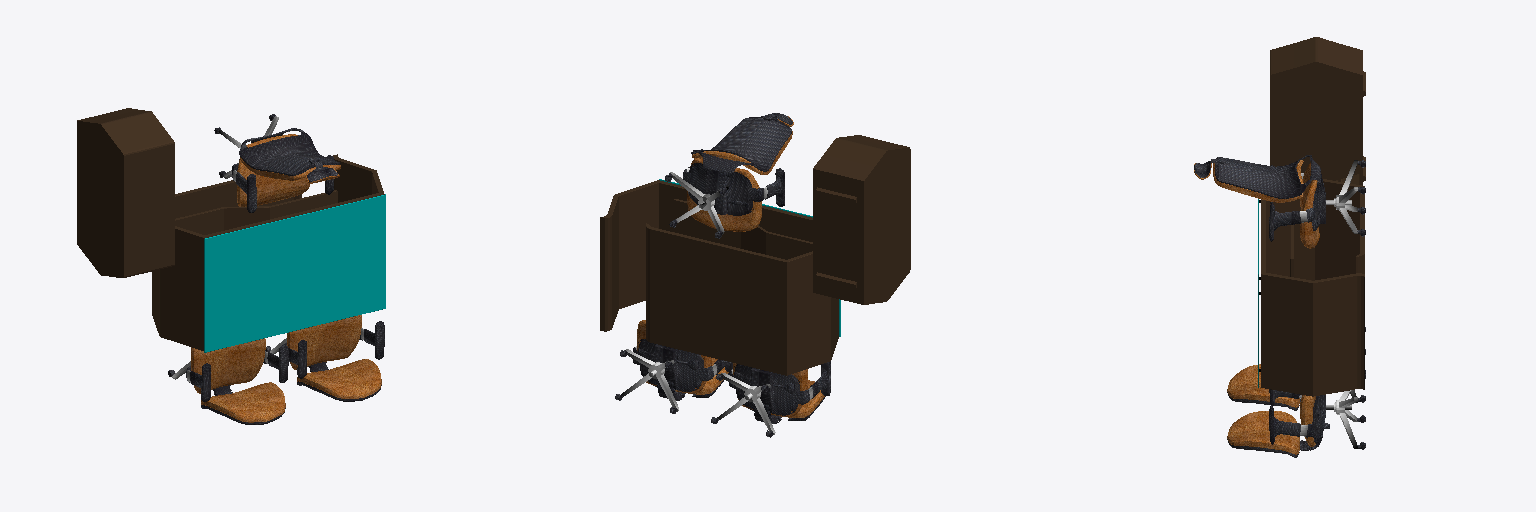
3 views of the same model, side by side, from view 1: azimuth 30°, elevation 25°; view 2: azimuth 150°, elevation 25°; view 3: azimuth 270°, elevation 25° (orthographic).
Visible parts, largest first — view 1: Plane.010_Plane.014, Cube.001_Cube.012_Cube.001_Cube.001, Cube_Cube.001_Cube_Cube.000, Cube.002_Cube.003_Cube.002_Cube.000, Cube.001_Cube.000_Cube.001_Cube.011_Cube.001_Cube.000_Cube.001_C, Cube.001_Cube.000_Cube.001_Cube.000_Cube.001_Cube.000_Cube.001_C, Cube.008_Cube.000_Cube.008_Cube.010_Cube.008_Cube.000_Cube.008_C, Cube.008_Cube.000_Cube.008_Cube.000_Cube.008_Cube.000_Cube.008_C, Cube.001_Cube.013_Cube.001_Cube.000, Cube.006_Cube.012_Cube.006_Cube.000; view 2: Cube_Cube.001_Cube_Cube.000, Cube.001_Cube.012_Cube.001_Cube.001, Cube.002_Cube.003_Cube.002_Cube.000, Cube.003_Cube.012_Cube.003_Cube.001, Cube.003_Cube.000_Cube.003_Cube.011_Cube.003_Cube.000_Cube.003_C, Cube.003_Cube.000_Cube.003_Cube.000_Cube.003_Cube.000_Cube.003_C, Cube.001_Cube.013_Cube.001_Cube.000, Cylinder.002_Cylinder.012_Cylinder.002_Cylinder.000, Cylinder.002_Cylinder.000_Cylinder.002_Cylinder.000_Cylinder.002, Cylinder.002_Cylinder.000_Cylinder.002_Cylinder.011_Cylinder.002, Cube.006_Cube.012_Cube.006_Cube.000, Cube.005_Cube.000_Cube.005_Cube.011_Cube.005_Cube.000_Cube.005_C; view 3: Cube_Cube.001_Cube_Cube.000, Cube.001_Cube.012_Cube.001_Cube.001, Cube.002_Cube.003_Cube.002_Cube.000, Cube.008_Cube.000_Cube.008_Cube.000_Cube.008_Cube.000_Cube.008_C, Cube.008_Cube.000_Cube.008_Cube.010_Cube.008_Cube.000_Cube.008_C, Cube.001_Cube.013_Cube.001_Cube.000, Cylinder.002_Cylinder.012_Cylinder.002_Cylinder.000, Cube.005_Cube.012_Cube.005_Cube.000, Cube.006_Cube.000_Cube.006_Cube.000_Cube.006_Cube.000_Cube.006_C, Cylinder.002_Cylinder.000_Cylinder.002_Cylinder.000_Cylinder.002, Cube_Cube.000_Cube_Cube.001.
Part boxes in pixels (x1,y1,x2,y2): Plane.010_Plane.014: (204,194,385,352); Cube.001_Cube.012_Cube.001_Cube.001: (77,108,174,277); Cube_Cube.001_Cube_Cube.000: (152,154,384,350); Cube.002_Cube.003_Cube.002_Cube.000: (239,128,340,175); Cube.001_Cube.000_Cube.001_Cube.011_Cube.001_Cube.000_Cube.001_C: (191,338,265,393); Cube.001_Cube.000_Cube.001_Cube.000_Cube.001_Cube.000_Cube.001_C: (287,315,361,369); Cube.008_Cube.000_Cube.008_Cube.010_Cube.008_Cube.000_Cube.008_C: (201,382,285,422); Cube.008_Cube.000_Cube.008_Cube.000_Cube.008_Cube.000_Cube.008_C: (297,359,381,398); Cube.001_Cube.013_Cube.001_Cube.000: (237,134,309,206); Cube.006_Cube.012_Cube.006_Cube.000: (232,163,256,212); Cube_Cube.001_Cube_Cube.000: (600,180,838,375); Cube.001_Cube.012_Cube.001_Cube.001: (813,135,910,304); Cube.002_Cube.003_Cube.002_Cube.000: (691,116,791,176); Cube.003_Cube.012_Cube.003_Cube.001: (688,163,753,215); Cube.003_Cube.000_Cube.003_Cube.011_Cube.003_Cube.000_Cube.003_C: (734,364,799,415); Cube.003_Cube.000_Cube.003_Cube.000_Cube.003_Cube.000_Cube.003_C: (638,339,703,391); Cube.001_Cube.013_Cube.001_Cube.000: (687,158,761,231); Cylinder.002_Cylinder.012_Cylinder.002_Cylinder.000: (669,172,728,234); Cylinder.002_Cylinder.000_Cylinder.002_Cylinder.000_Cylinder.002: (621,349,678,411); Cylinder.002_Cylinder.000_Cylinder.002_Cylinder.011_Cylinder.002: (717,373,775,434); Cube.006_Cube.012_Cube.006_Cube.000: (748,168,784,206); Cube.005_Cube.000_Cube.005_Cube.011_Cube.005_Cube.000_Cube.005_C: (794,361,830,404); Cube_Cube.001_Cube_Cube.000: (1261,179,1364,396); Cube.001_Cube.012_Cube.001_Cube.001: (1270,37,1365,185); Cube.002_Cube.003_Cube.002_Cube.000: (1215,155,1320,198); Cube.008_Cube.000_Cube.008_Cube.000_Cube.008_Cube.000_Cube.008_C: (1227,411,1299,454); Cube.008_Cube.000_Cube.008_Cube.010_Cube.008_Cube.000_Cube.008_C: (1227,364,1299,407); Cube.001_Cube.013_Cube.001_Cube.000: (1300,163,1319,248); Cylinder.002_Cylinder.012_Cylinder.002_Cylinder.000: (1334,160,1357,233); Cube.005_Cube.012_Cube.005_Cube.000: (1269,203,1314,241); Cube.006_Cube.000_Cube.006_Cube.000_Cube.006_Cube.000_Cube.006_C: (1269,405,1314,444); Cylinder.002_Cylinder.000_Cylinder.002_Cylinder.000_Cylinder.002: (1334,390,1357,448); Cube_Cube.000_Cube_Cube.001: (1213,160,1303,202).
Bounding box in the file's own units: 2.46 × 2.6 × 1.34.
Materials: 17 (3 with a texture image).